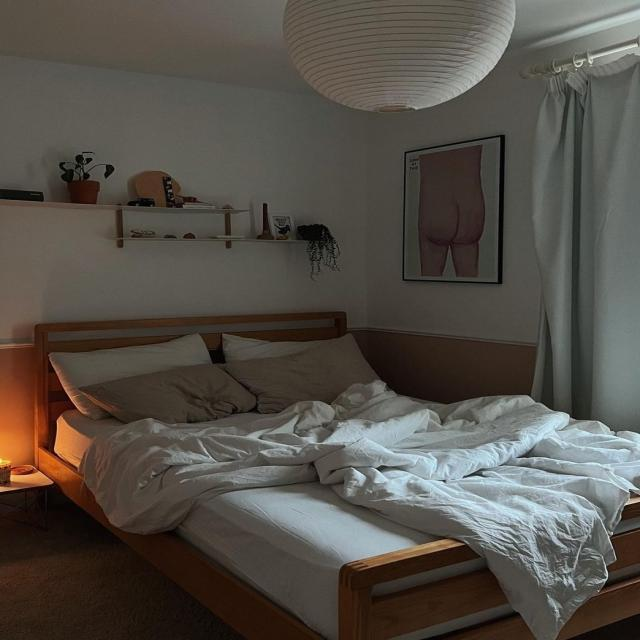bed: (24, 320, 640, 620)
